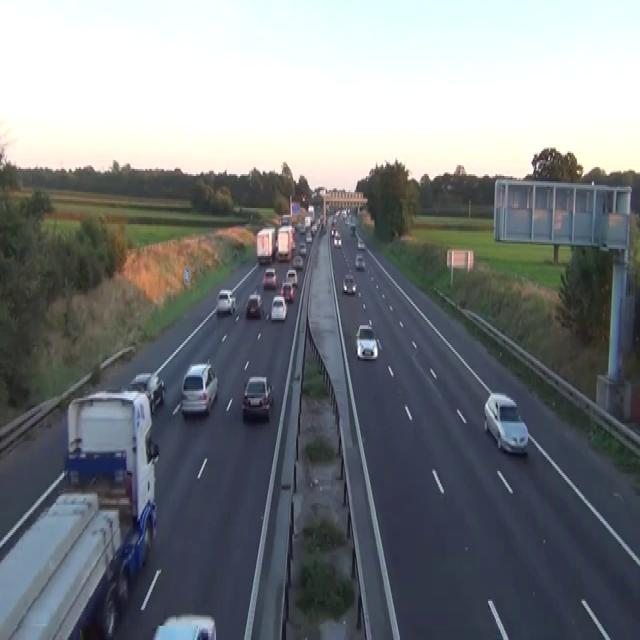Car: (101, 500, 157, 638), (483, 391, 528, 455), (180, 361, 218, 416), (152, 614, 216, 638), (242, 375, 274, 420), (129, 372, 165, 412), (355, 324, 377, 359), (216, 288, 236, 315), (270, 295, 287, 322), (245, 292, 262, 318), (262, 267, 277, 288), (280, 281, 294, 302), (342, 274, 356, 293), (285, 268, 298, 286), (292, 254, 303, 268), (333, 231, 342, 247), (258, 254, 271, 265), (355, 254, 365, 268), (298, 242, 306, 256), (357, 238, 364, 249), (305, 231, 312, 242), (349, 224, 355, 235), (311, 224, 317, 235), (299, 224, 305, 233), (321, 224, 326, 233), (330, 228, 335, 236), (341, 210, 346, 218), (332, 217, 337, 224), (292, 240, 295, 251)
Truck: (0, 388, 159, 638), (0, 491, 121, 638), (65, 388, 159, 524), (256, 226, 276, 263), (277, 226, 294, 261), (307, 205, 314, 222)
